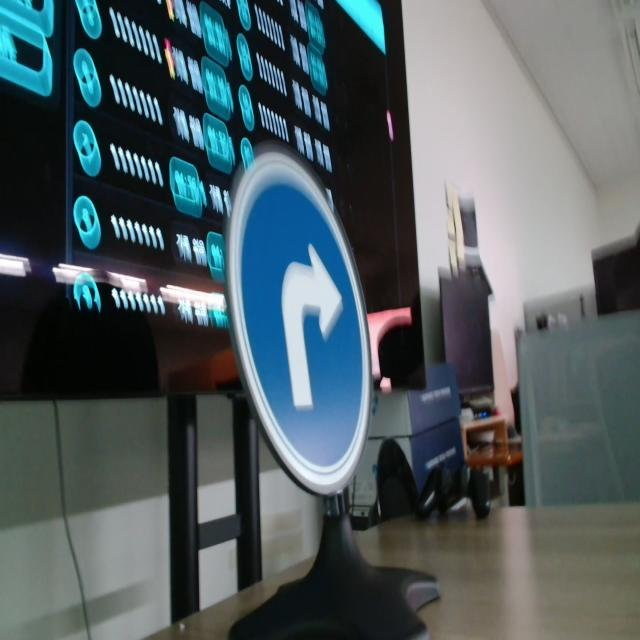right_dierection: (218, 142, 378, 498)
